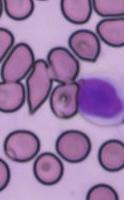L: (76, 72, 124, 126)
